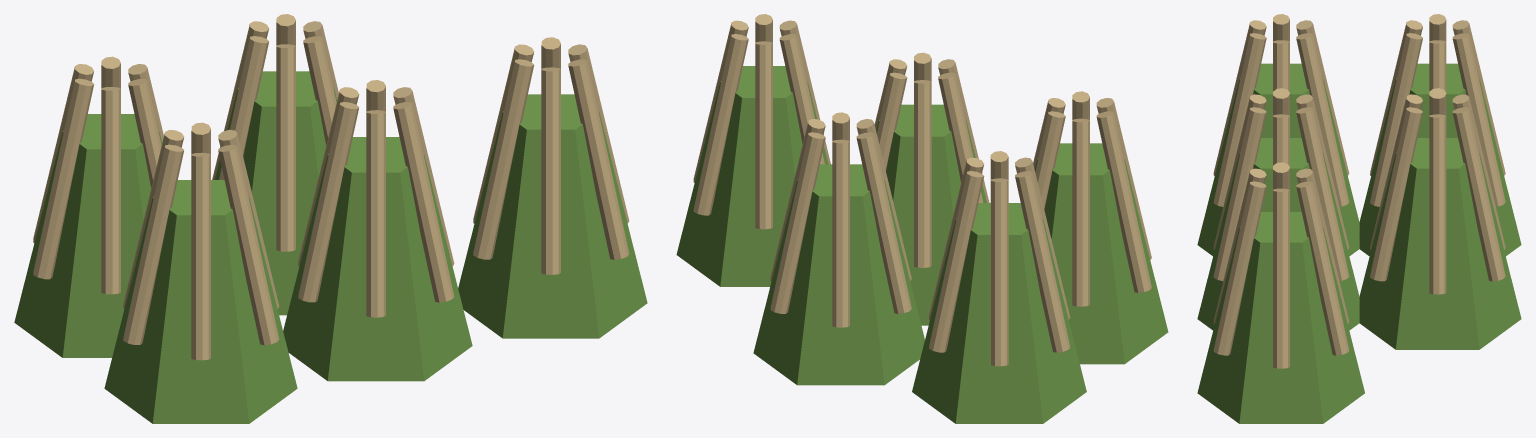
The model's file is 074_paddy_seedling_bundles.glb.
The picture shows the model from 3 angles, left to right: view 1: azimuth 30°, elevation 25°; view 2: azimuth 150°, elevation 25°; view 3: azimuth 270°, elevation 25°; orthographic projection. The views are drawn at different scales.
Parts seen in each view (by area): view 1: Paddy seedling bundles; view 2: Paddy seedling bundles; view 3: Paddy seedling bundles.
Boxes of the visible parts, bbox=[...] form: Paddy seedling bundles: bbox=[14, 14, 647, 423]; Paddy seedling bundles: bbox=[676, 14, 1168, 423]; Paddy seedling bundles: bbox=[1197, 14, 1521, 423].
Bounding box in the file's own units: 1.32 × 0.6253 × 0.85.
